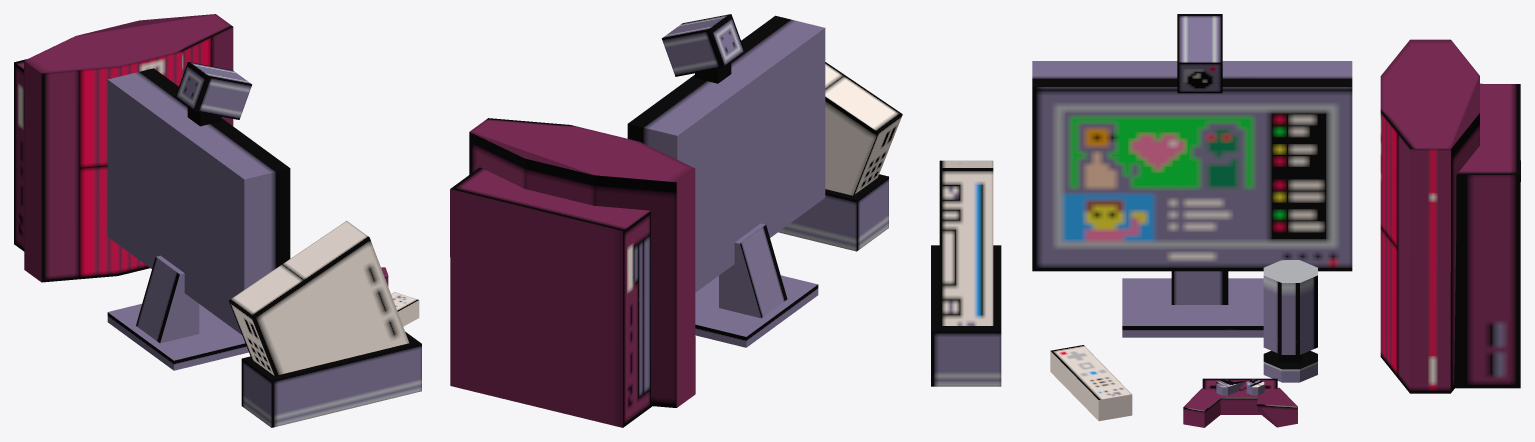
Rendered from stream2.obj.
The picture shows the model from 3 angles, left to right: view 1: azimuth 30°, elevation 25°; view 2: azimuth 150°, elevation 25°; view 3: azimuth 270°, elevation 25°; orthographic projection. The views are drawn at different scales.
Visible parts, largest first — view 1: stream2; view 2: stream2; view 3: stream2.
Part boxes in pixels (bbox=[...]): stream2: bbox=[14, 14, 421, 427]; stream2: bbox=[450, 14, 902, 427]; stream2: bbox=[931, 14, 1520, 427].
Bounding box in the file's own units: 2.01 × 1.98 × 3.41.
Materials: 1 (1 with a texture image).
